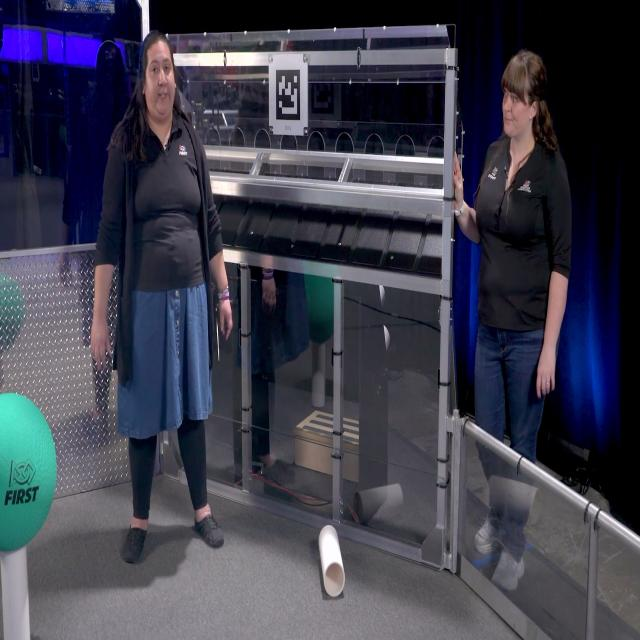Algae: (0, 392, 57, 553)
Coral: (0, 546, 31, 640), (319, 525, 345, 598)
